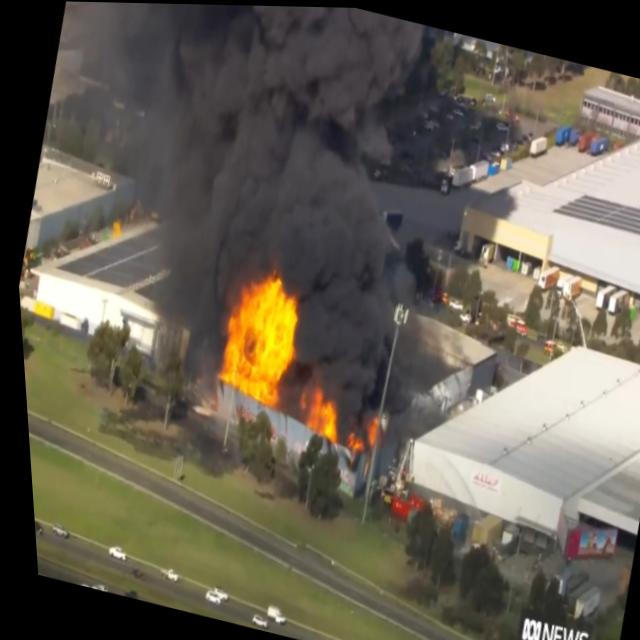Fire: (186, 255, 317, 427), (292, 382, 353, 449)
